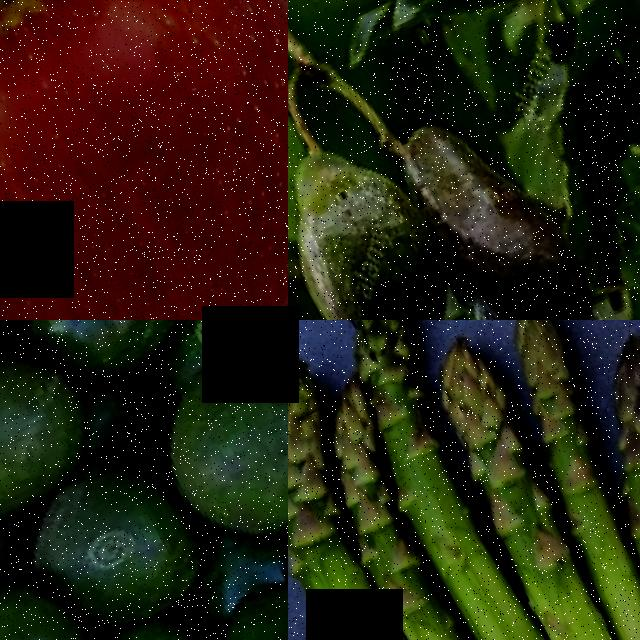apple: (0, 0, 288, 320)
asparagus: (416, 341, 609, 640), (333, 320, 490, 532), (483, 320, 623, 529), (558, 328, 640, 640), (304, 384, 421, 554), (288, 350, 359, 553)
avocado: (367, 80, 618, 320), (0, 444, 230, 640), (120, 332, 288, 575), (288, 114, 482, 320), (0, 320, 126, 547), (0, 320, 225, 412), (13, 587, 269, 640), (167, 561, 288, 640)
